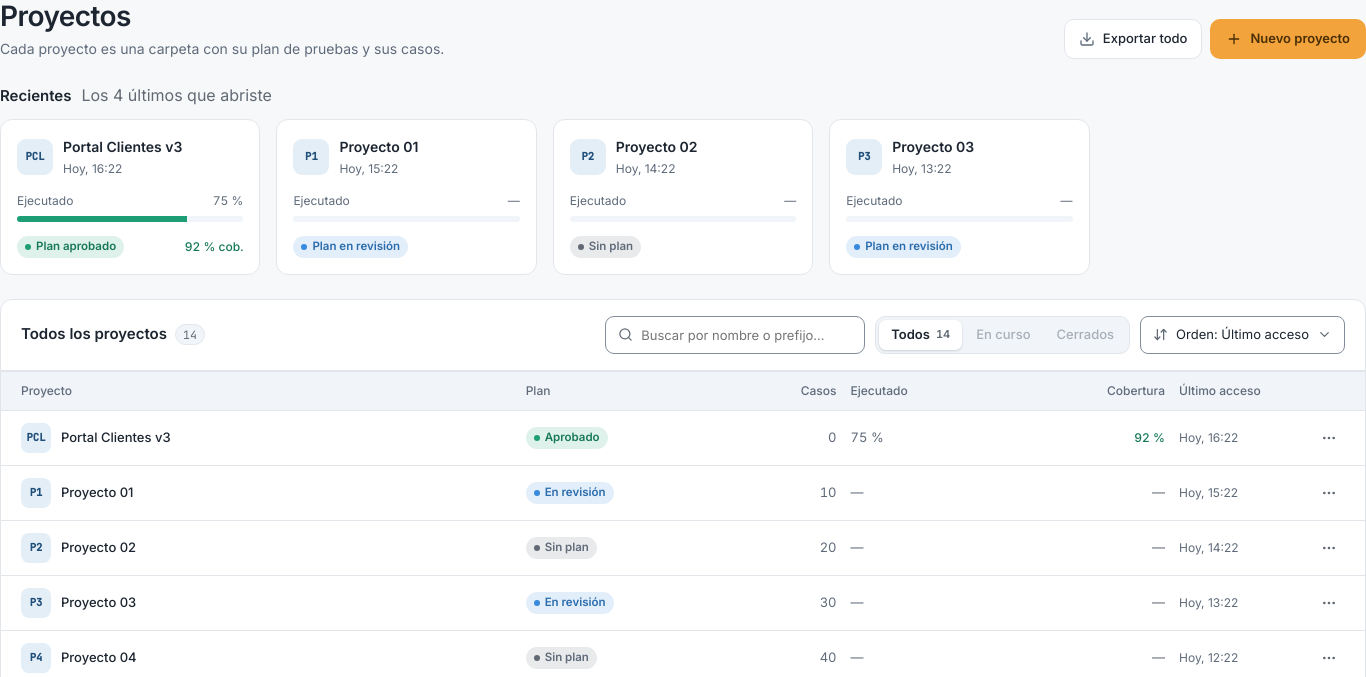
Test case: Proyectos when an action fails › a failed row export says which project, and «Reintentar» repeats it
Click the button named "Más acciones de Portal Clientes v3" at (1329,438), box top-left (1313, 422), bottom-right (1345, 454)
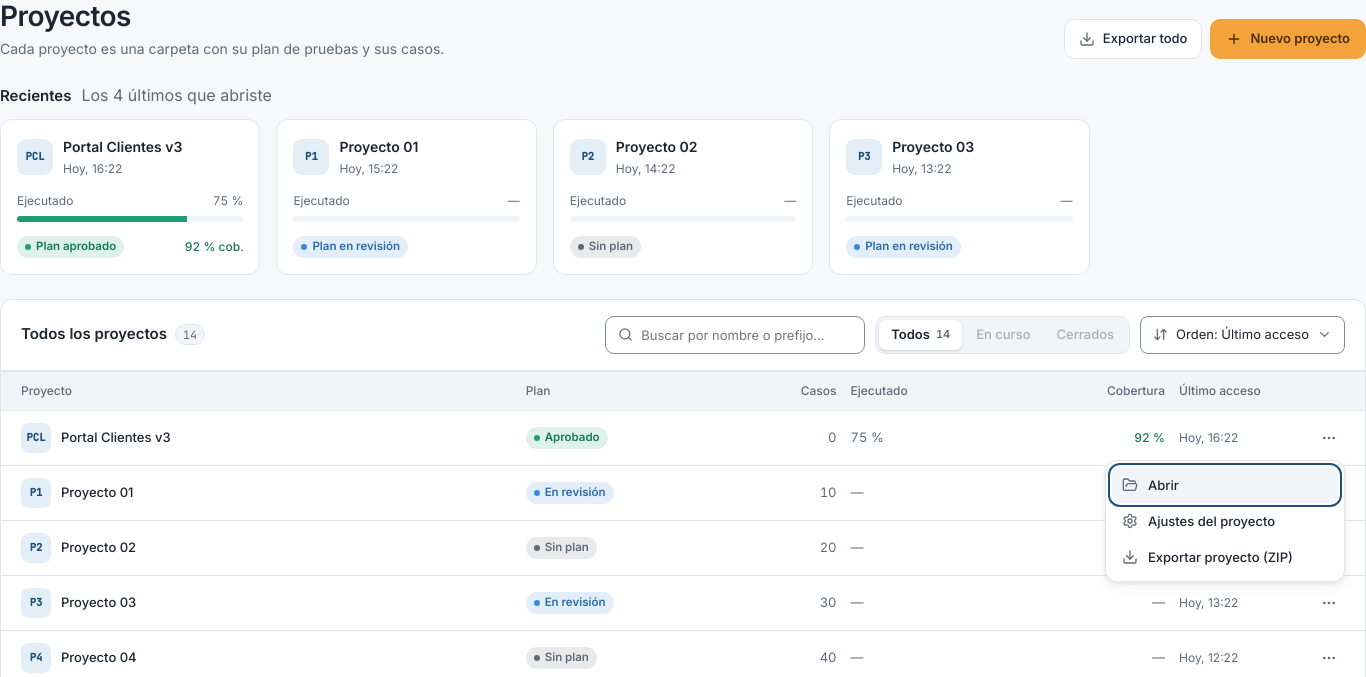
Click the menu item "Exportar proyecto (ZIP)" at (1225,557), box top-left (1112, 539), bottom-right (1338, 575)
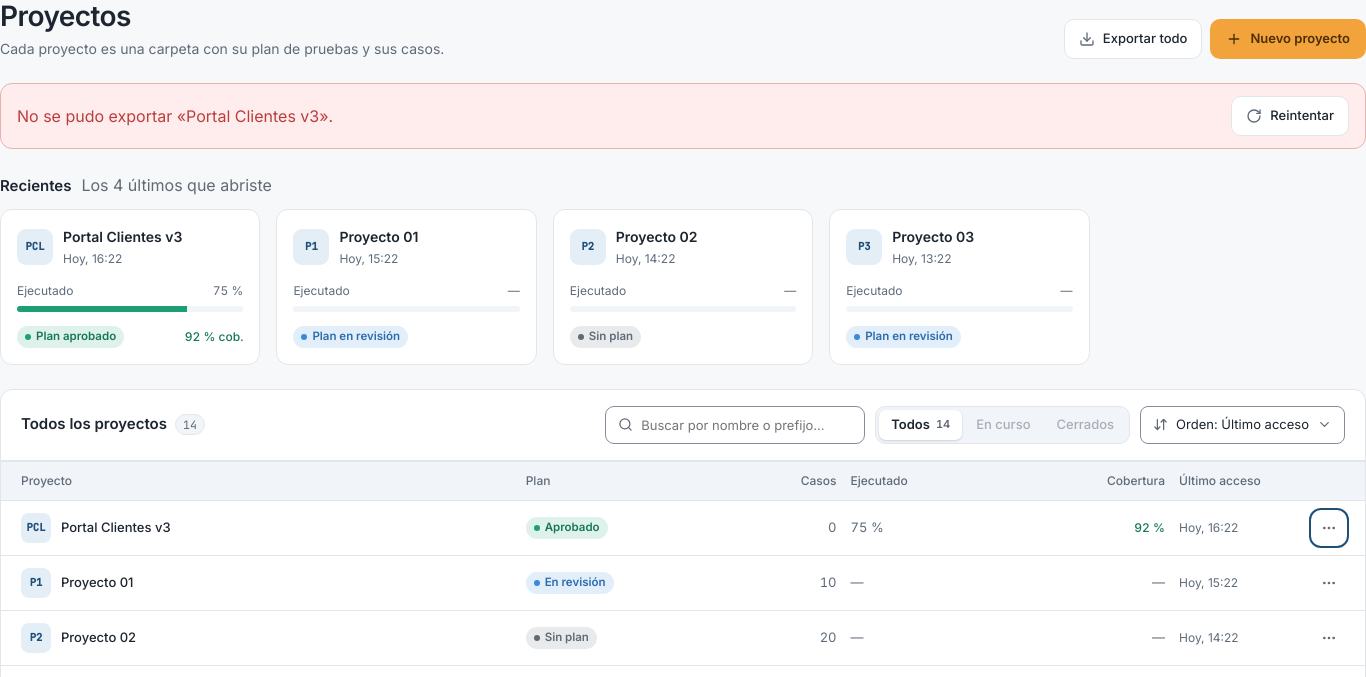
Check: the message shows "No se pudo exportar «Portal Clientes v3».", box top-left (17, 106), bottom-right (333, 126)
Click the button "Reintentar" at (1290,116), box top-left (1231, 96), bottom-right (1349, 136)
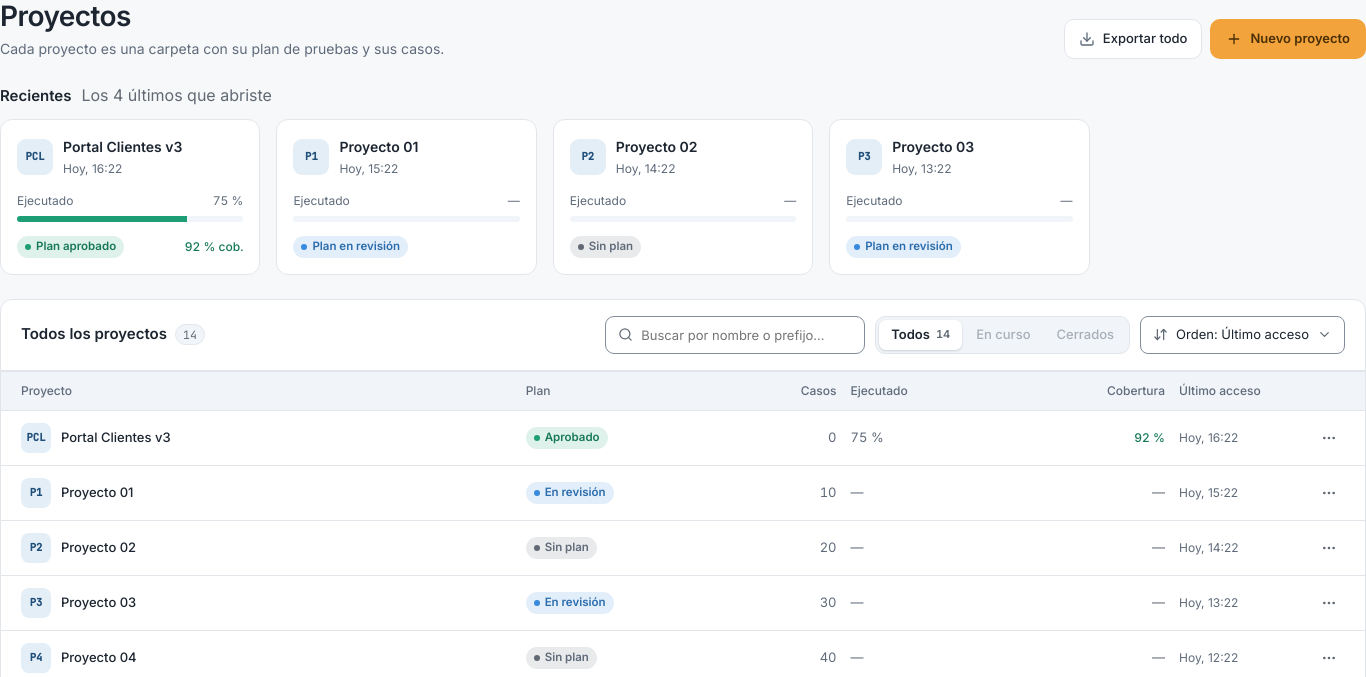
Check: the message "No se pudo exportar «Portal Clientes v3». Reintentar" is gone
